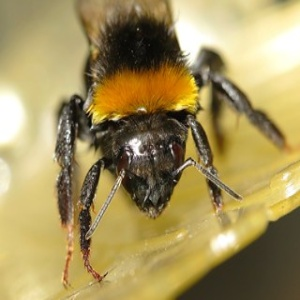bee: (52, 2, 290, 296)
